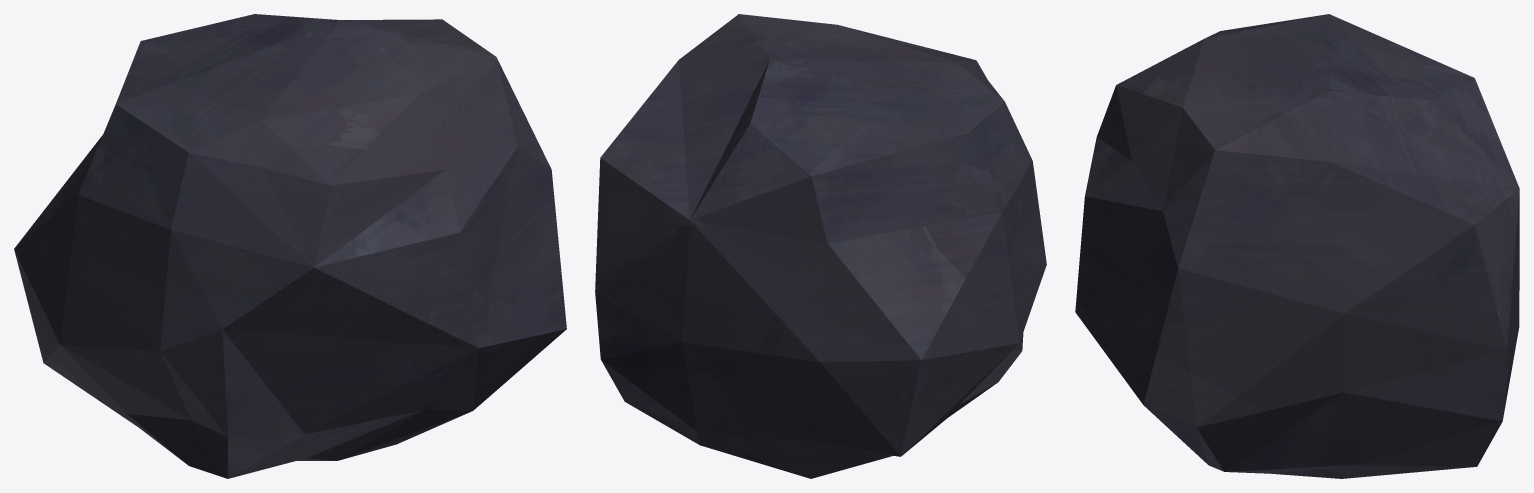
Rendered from Rock04.fbx.
3 views of the same model, side by side, from view 1: azimuth 30°, elevation 25°; view 2: azimuth 150°, elevation 25°; view 3: azimuth 270°, elevation 25° (orthographic). The views are drawn at different scales.
Visible parts, largest first — view 1: Rock04; view 2: Rock04; view 3: Rock04.
Boxes of the visible parts, x1,y1,x2,y2 form: Rock04: [14, 14, 566, 478]; Rock04: [595, 14, 1046, 478]; Rock04: [1075, 14, 1519, 478].
Bounding box in the file's own units: 0.7371 × 0.6535 × 0.7097.
1 material, 1 textured.
